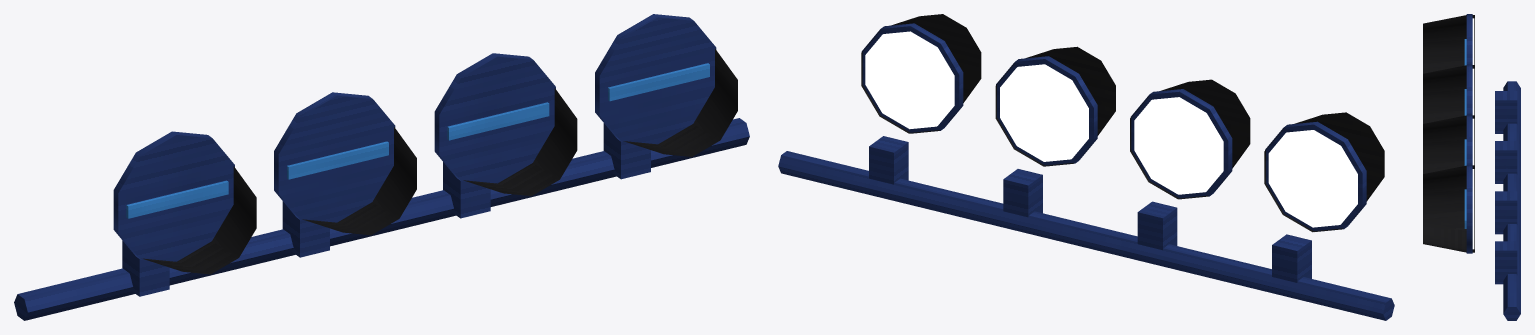
File: farois_aux_n2.glb
3 renders of one model, left to right at view 1: azimuth 30°, elevation 25°; view 2: azimuth 150°, elevation 25°; view 3: azimuth 270°, elevation 25°, orthographic. The views are drawn at different scales.
Parts seen in each view (by area): view 1: farois_aux_n2; view 2: farois_aux_n2; view 3: farois_aux_n2.
Boxes of the visible parts, x1,y1,x2,y2 form: farois_aux_n2: (14,14,749,320); farois_aux_n2: (778,14,1394,320); farois_aux_n2: (1423,14,1520,320).
Bounding box in the file's own units: 0.72 × 0.1716 × 0.132.
2 materials, 2 textured.
